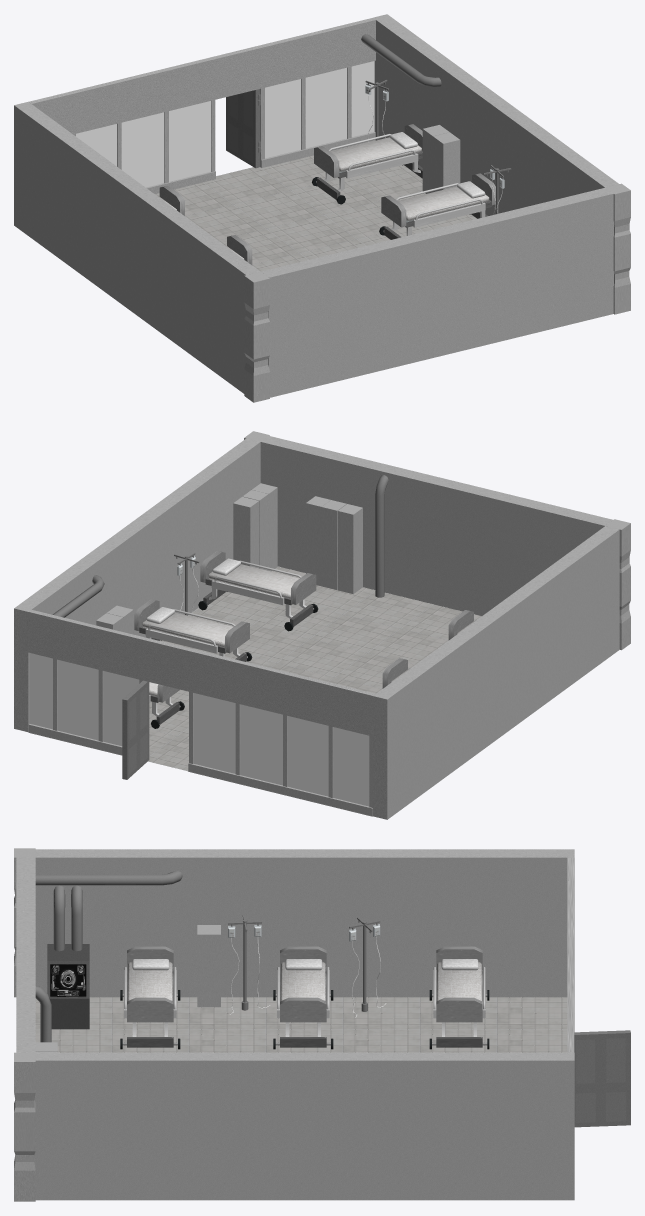
Rendered from Room4.fbx.
The picture shows the model from 3 angles, top to bottom: view 1: azimuth 30°, elevation 25°; view 2: azimuth 150°, elevation 25°; view 3: azimuth 270°, elevation 25°; orthographic projection. The views are drawn at different scales.
Visible parts, largest first — view 1: Wall1.089, Wall1.088, Wall1.072, Wall1.056, Wall1.087, Wall1.071, Wall1.058, Cube.131, Cube.128, Wall1.080, Wall1.077, Wall1.078 (+34 smaller); view 2: Wall1.089, Cube.128, Wall1.088, Wall1.087, Cube.131, Wall1.078, Wall1.056, Wall1.071, Wall1.079, Wall1.081, Wall1.083, Wall1.077 (+40 smaller); view 3: Wall1.073, Wall1.074, Wall1.075, Wall1.076, Wall1.084, Wall1.085, Wall1.086, Wall1.080, Wall1.078, Wall1.082, Wall1.077, Wall1.079 (+37 smaller).
Boxes of the visible parts, left/top/right/bottom form: Wall1.089: left=29, top=18, right=375, bottom=134; Wall1.088: left=376, top=229, right=441, bottom=369; Wall1.072: left=491, top=201, right=556, bottom=341; Wall1.056: left=318, top=243, right=383, bottom=383; Wall1.087: left=433, top=215, right=498, bottom=355; Wall1.071: left=548, top=187, right=613, bottom=327; Wall1.058: left=261, top=258, right=326, bottom=397; Cube.131: left=265, top=61, right=374, bottom=158; Cube.128: left=76, top=101, right=210, bottom=187; Wall1.080: left=80, top=150, right=127, bottom=297; Wall1.077: left=47, top=126, right=94, bottom=273; Wall1.078: left=14, top=101, right=60, bottom=249; Wall1.089: left=28, top=609, right=375, bottom=736; Cube.128: left=193, top=693, right=369, bottom=806; Wall1.088: left=432, top=478, right=498, bottom=615; Wall1.087: left=375, top=464, right=440, bottom=603; Cube.131: left=29, top=653, right=139, bottom=745; Wall1.078: left=373, top=672, right=420, bottom=819; Wall1.056: left=490, top=492, right=555, bottom=609; Wall1.071: left=260, top=436, right=325, bottom=572; Wall1.079: left=473, top=599, right=520, bottom=746; Wall1.081: left=539, top=550, right=586, bottom=697; Wall1.083: left=572, top=526, right=619, bottom=673; Wall1.077: left=406, top=647, right=453, bottom=794; Wall1.073: left=420, top=1052, right=497, bottom=1200; Wall1.074: left=497, top=1052, right=574, bottom=1200; Wall1.075: left=266, top=1052, right=343, bottom=1200; Wall1.076: left=343, top=1052, right=420, bottom=1200; Wall1.084: left=112, top=1052, right=189, bottom=1200; Wall1.085: left=189, top=1052, right=266, bottom=1200; Wall1.086: left=35, top=1052, right=112, bottom=1200; Wall1.080: left=343, top=849, right=420, bottom=997; Wall1.078: left=497, top=849, right=574, bottom=997; Wall1.082: left=189, top=849, right=266, bottom=997; Wall1.077: left=420, top=849, right=497, bottom=997; Wall1.079: left=266, top=849, right=343, bottom=997.
Bounding box in the file's own units: 11.38 × 3.52 × 13.88.
